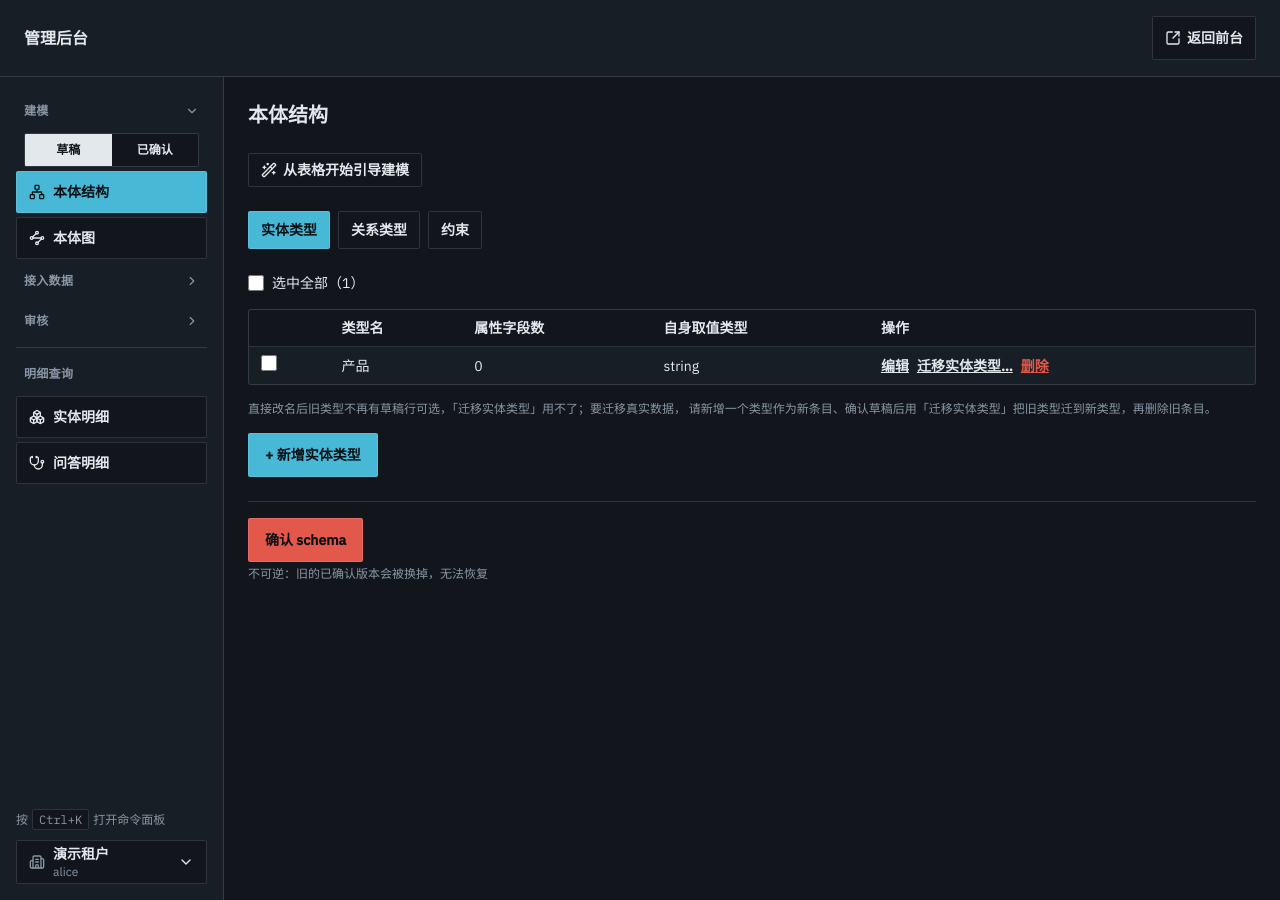
Test: terms/summary 失败不阻断差异预览 › summary 请求失败时，确认框仍然弹出，差异预览没有退化成"无法预览"
Click the button "确认 schema" at (306,540), box [248,518,363,562]
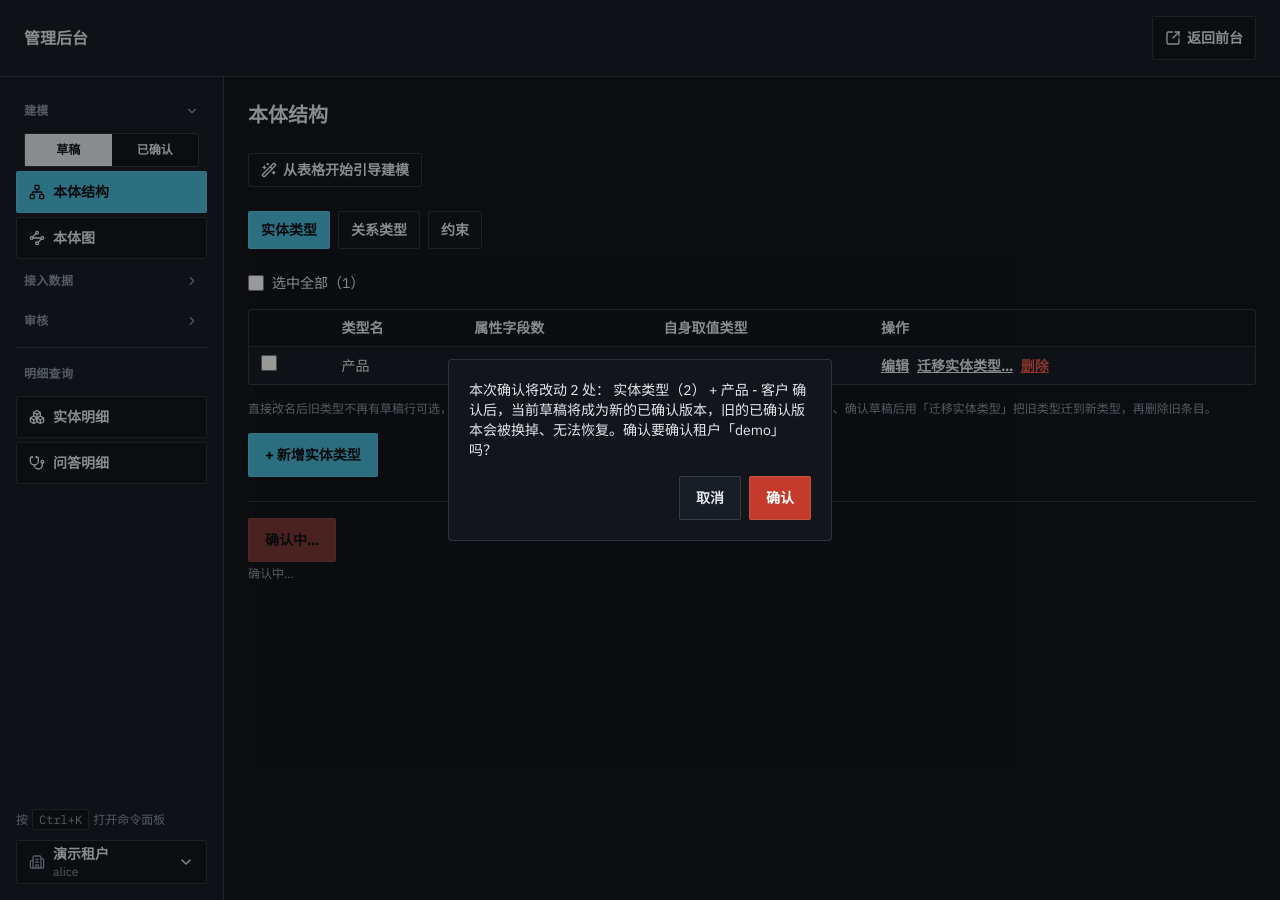
Expected: the dialog shows "产品", [469,381,806,459]
Expected: the dialog shows "客户", [469,381,806,459]
